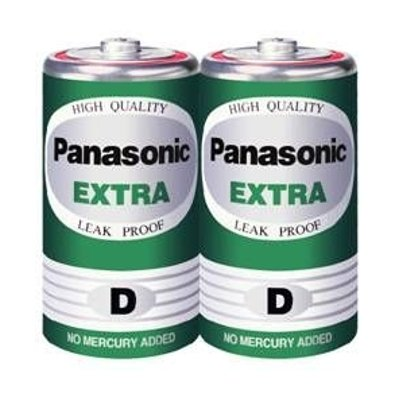Battery: (199, 36, 363, 361), (40, 35, 200, 362)
